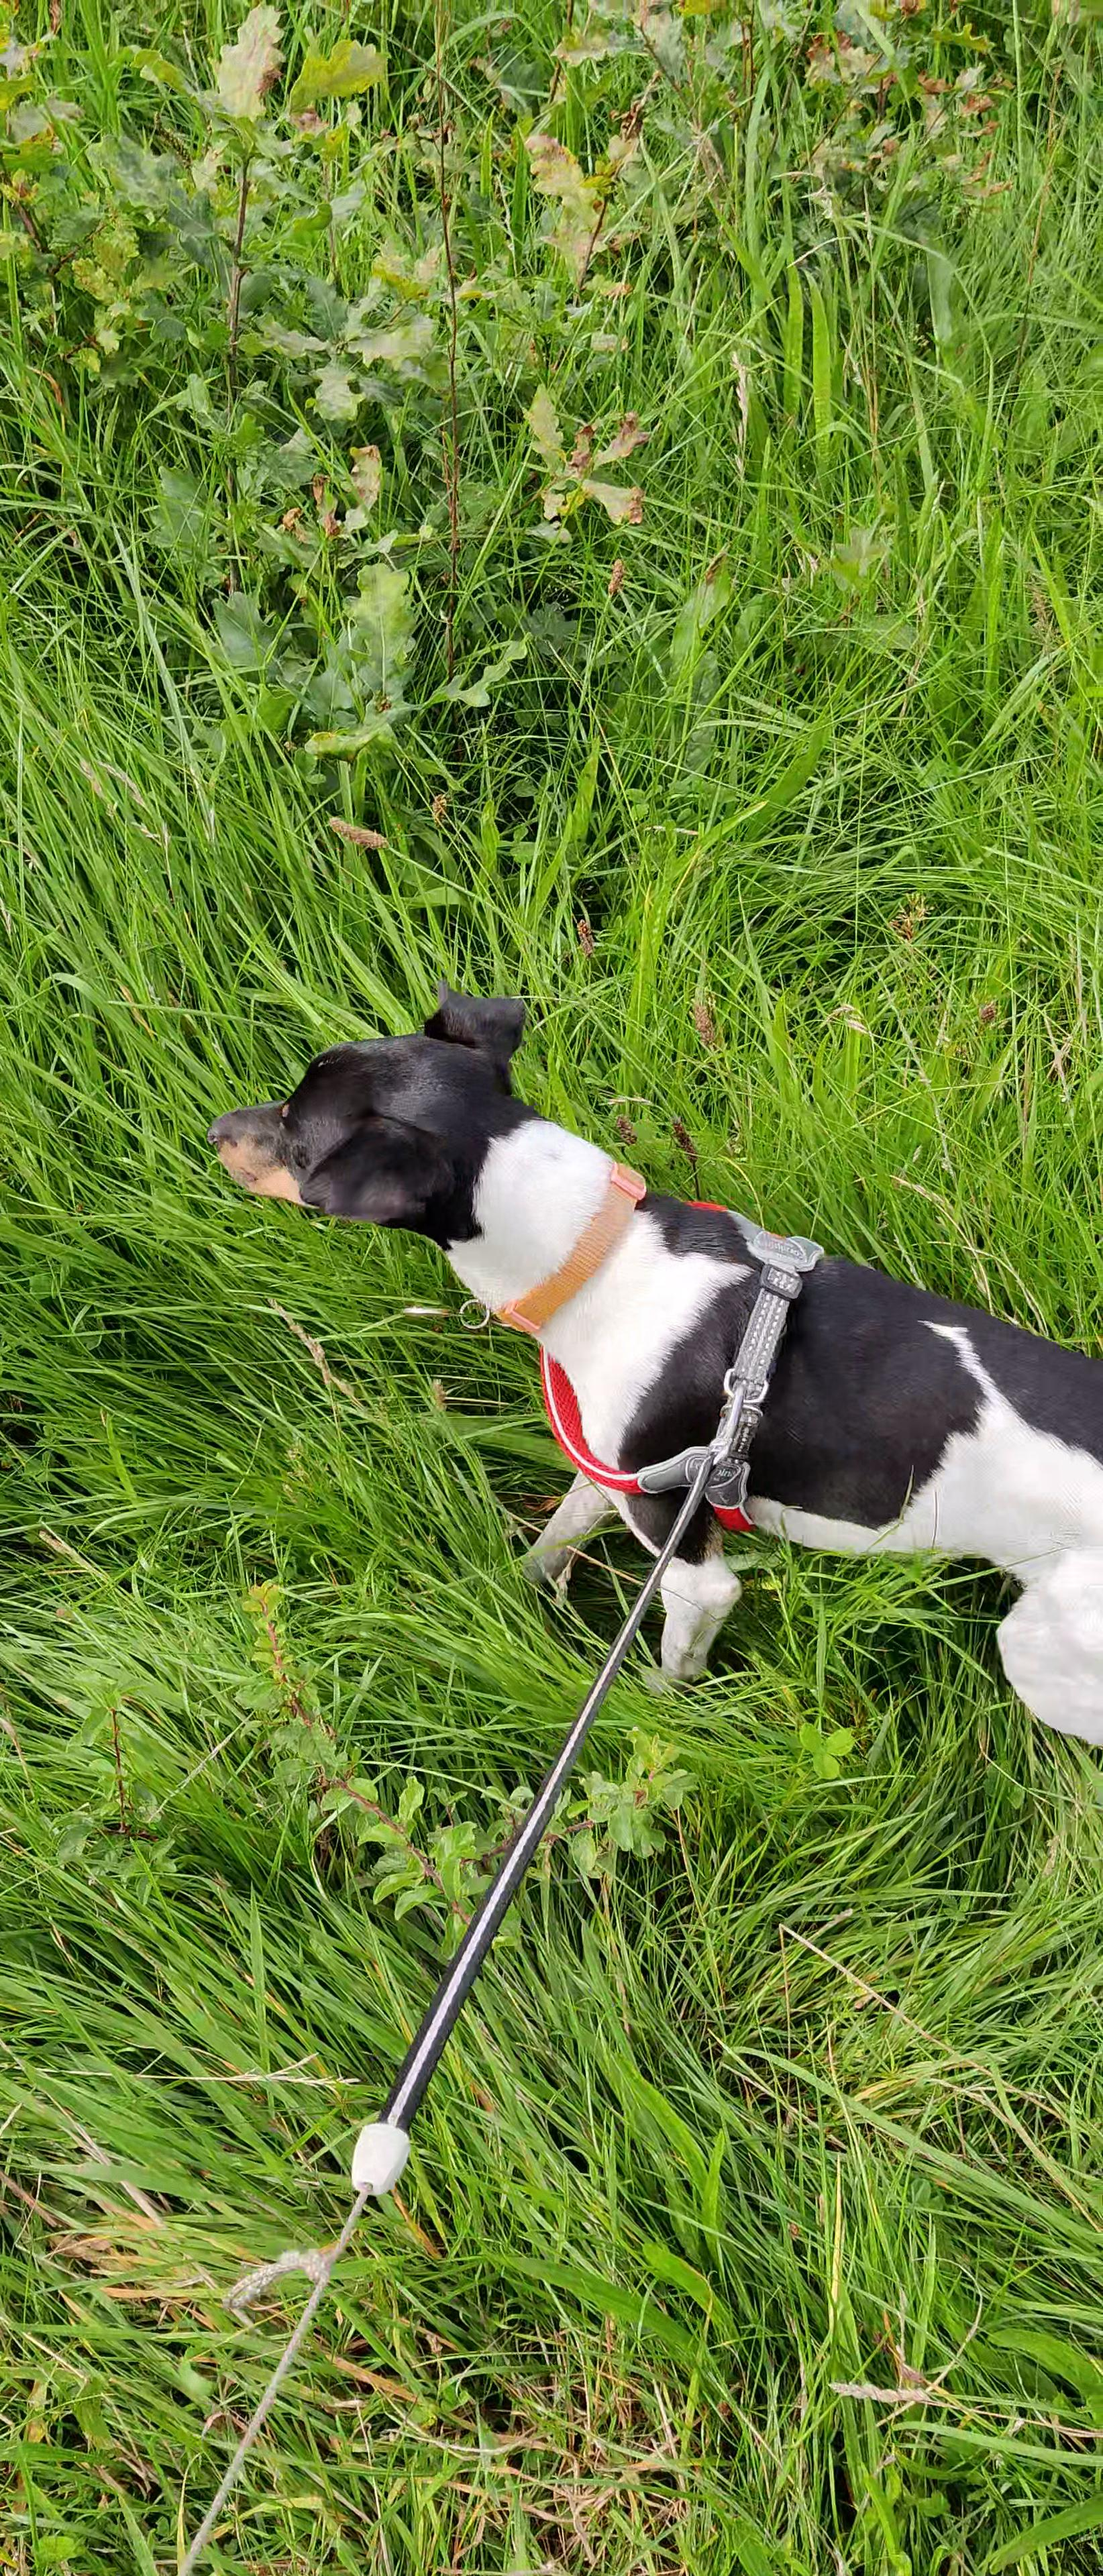Dog: (204, 977, 1103, 1759)
